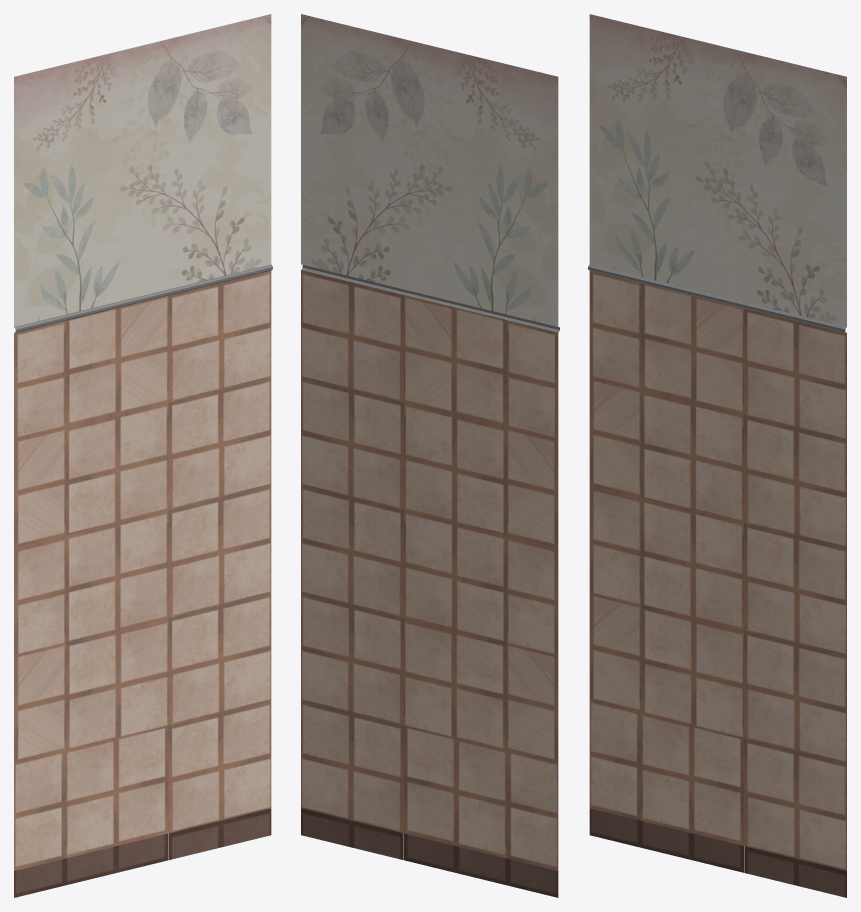
File: MT_BR_Single_Wall.fbx
The picture shows the model from 3 angles, left to right: view 1: azimuth 30°, elevation 25°; view 2: azimuth 150°, elevation 25°; view 3: azimuth 330°, elevation 25°; orthographic projection.
Visible parts, largest first — view 1: Middle_Wall_Small; view 2: Middle_Wall_Small; view 3: Middle_Wall_Small.
Boxes of the visible parts, x1,y1,x2,y2 form: Middle_Wall_Small: (14, 14, 272, 897); Middle_Wall_Small: (301, 14, 559, 897); Middle_Wall_Small: (588, 14, 846, 897).
Bounding box in the file's own units: 100 × 305 × 0.9588.
